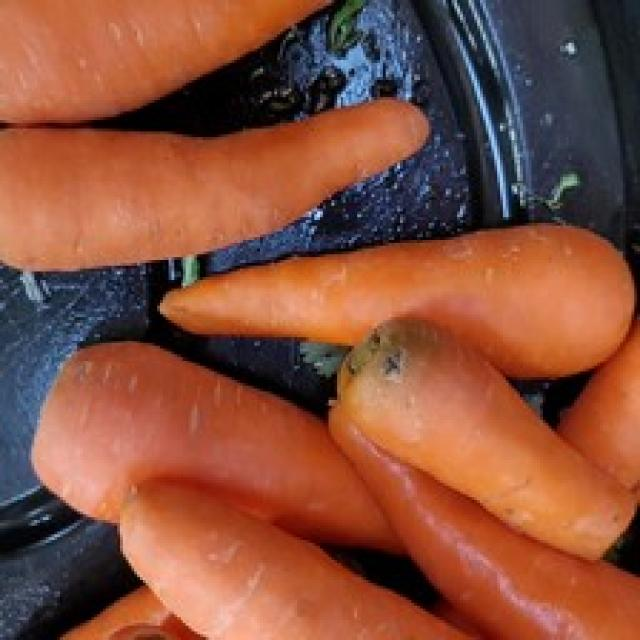Fresh_Carrot: (331, 393, 640, 640), (163, 224, 633, 379), (0, 99, 425, 269), (41, 353, 402, 553), (556, 317, 640, 501)
